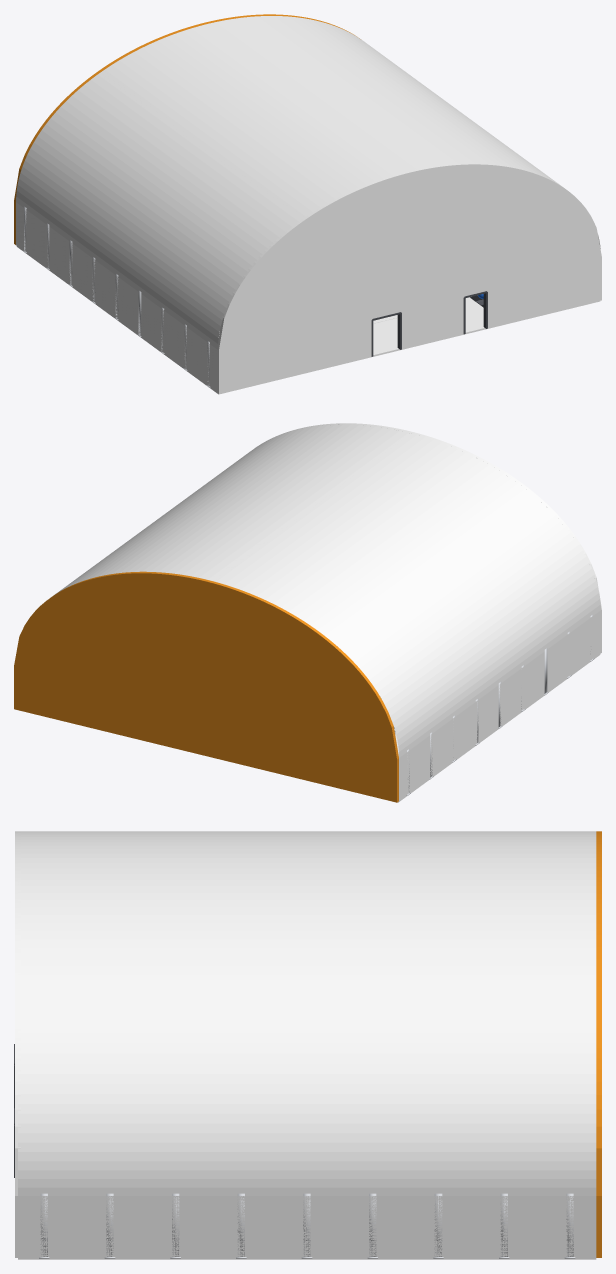
File: badminton_hala.glb
3 renders of one model, top to bottom at view 1: azimuth 30°, elevation 25°; view 2: azimuth 150°, elevation 25°; view 3: azimuth 270°, elevation 25°, orthographic. The views are drawn at different scales.
Parts seen in each view (by area): view 1: Hala_Klenba_Drevo, Hala_Stena_Predni, Hala_Podlaha_PU, Hala_Stena_Zadni, Hala_Dvere_Ramy; view 2: Hala_Klenba_Drevo, Hala_Stena_Zadni, Hala_Stena_Predni; view 3: Hala_Klenba_Drevo, Hala_Stena_Zadni, Hala_Stena_Predni, Hala_Podlaha_PU.
Boxes of the visible parts, x1,y1,x2,y2 form: Hala_Klenba_Drevo: [16, 16, 600, 392]; Hala_Stena_Predni: [217, 163, 601, 393]; Hala_Podlaha_PU: [16, 246, 600, 394]; Hala_Stena_Zadni: [14, 14, 359, 244]; Hala_Dvere_Ramy: [371, 291, 487, 356]; Hala_Klenba_Drevo: [55, 424, 600, 800]; Hala_Stena_Zadni: [14, 571, 398, 802]; Hala_Stena_Predni: [259, 423, 601, 652]; Hala_Klenba_Drevo: [18, 831, 596, 1257]; Hala_Stena_Zadni: [596, 831, 601, 1257]; Hala_Stena_Predni: [15, 831, 20, 1257]; Hala_Podlaha_PU: [18, 1258, 596, 1259].
Size of the model in its own units: 24.22 by 10.6 by 22.37.
119 materials, 4 textured.
